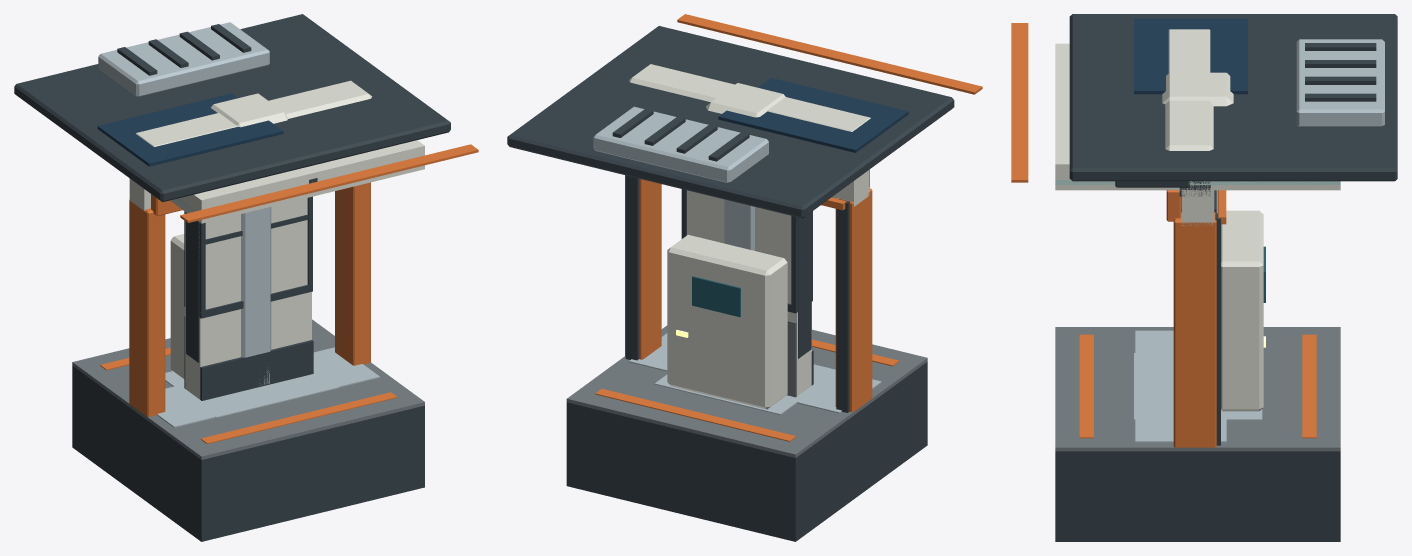
The model's file is habitat-kit.glb.
3 renders of one model, left to right at view 1: azimuth 30°, elevation 25°; view 2: azimuth 150°, elevation 25°; view 3: azimuth 270°, elevation 25°, orthographic. The views are drawn at different scales.
Visible parts, largest first — view 1: RoofModule, Floor, Airlock, Wall, Window, Roof, Corner, RoofEdge, AirlockFloor, GlassWall, Cabinet, RoofCorner; view 2: RoofModule, Floor, Cabinet, Airlock, Wall, RoofEdge, AirlockFloor, GlassWall, Window, RoofCorner, Corner; view 3: RoofModule, Floor, Airlock, Cabinet, AirlockFloor, RoofEdge, Roof, RoofCorner, GlassRoof.
Part boxes in pixels (bbox=[...]): RoofModule: bbox=[14, 14, 478, 222]; Floor: bbox=[72, 319, 424, 541]; Airlock: bbox=[129, 178, 379, 427]; Wall: bbox=[184, 198, 313, 398]; Window: bbox=[184, 196, 313, 400]; Roof: bbox=[170, 140, 424, 223]; Corner: bbox=[241, 207, 271, 385]; RoofEdge: bbox=[136, 80, 372, 146]; AirlockFloor: bbox=[100, 347, 397, 443]; GlassWall: bbox=[185, 212, 311, 399]; Cabinet: bbox=[170, 234, 185, 378]; RoofCorner: bbox=[211, 93, 287, 127]; RoofModule: bbox=[507, 14, 982, 218]; Floor: bbox=[566, 325, 927, 541]; Cabinet: bbox=[667, 197, 846, 409]; Airlock: bbox=[625, 169, 881, 413]; Wall: bbox=[687, 190, 813, 397]; RoofEdge: bbox=[629, 64, 870, 131]; AirlockFloor: bbox=[595, 339, 899, 441]; GlassWall: bbox=[797, 212, 811, 395]; Window: bbox=[681, 189, 813, 394]; RoofCorner: bbox=[705, 83, 785, 117]; Corner: bbox=[724, 199, 754, 250]; RoofModule: bbox=[1011, 14, 1397, 182]; Floor: bbox=[1055, 327, 1340, 541]; Airlock: bbox=[1115, 181, 1226, 447]; Cabinet: bbox=[1218, 190, 1265, 411]; AirlockFloor: bbox=[1079, 334, 1316, 438]; RoofEdge: bbox=[1165, 29, 1213, 186]; Roof: bbox=[1055, 43, 1340, 190]; RoofCorner: bbox=[1162, 72, 1233, 106]; GlassRoof: bbox=[1055, 180, 1340, 184].
Bounding box in the file's own units: 2.6 × 3.18 × 2.71.
